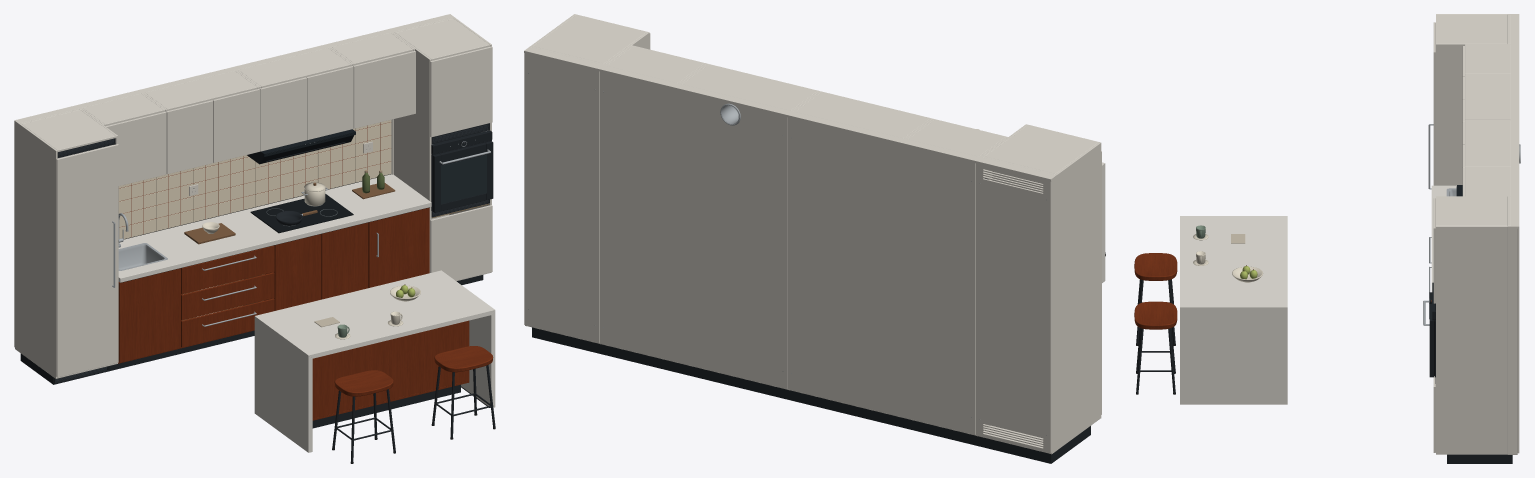
File: kitchen.glb
The picture shows the model from 3 angles, left to right: view 1: azimuth 30°, elevation 25°; view 2: azimuth 150°, elevation 25°; view 3: azimuth 270°, elevation 25°; orthographic projection. The views are drawn at different scales.
Visible parts, largest first — view 1: Fridge_Door, Backsplash_Cream_Square_Tiles, Island_Countertop, Counter_Main, Fridge_Side_L, Island_Carcass_Back, Island_End_L, Sink_Door, OvenCabinet_Upper, CabinetDoor_Panel, UpperDoor_Landing_Panel, OvenCabinet_Lower (+36 smaller); view 2: Rear_Flush_Service_Center_L, Rear_Flush_Service_Center_R, Rear_Flush_Service_Fridge, Rear_Flush_Service_Oven, Fridge_Side_L, Base_Continuous_Rear, Rear_Continuous_Top_Return, OvenCabinet_Top, Fridge_Top, Upper_Hood_Top, Upper_Prep_Top, Upper_Landing_Top (+3 smaller); view 3: OvenCabinet_Side_R, Island_End_R, Island_Countertop, Fridge_Side_R, Rear_Cladding_Stile_2.091, Rear_Continuous_Top_Return, Fridge_Top, OvenCabinet_Top, Upper_Prep_Top, Upper_Hood_Top, Upper_Landing_Top, Upper_Sink_Top (+8 smaller).
Part boxes in pixels (x1,y1,x2,y2): Fridge_Door: [56, 144, 118, 377]; Backsplash_Cream_Square_Tiles: [118, 120, 391, 238]; Island_Countertop: [255, 270, 494, 358]; Counter_Main: [118, 174, 431, 282]; Fridge_Side_L: [20, 124, 57, 378]; Island_Carcass_Back: [312, 321, 467, 418]; Island_End_L: [254, 316, 312, 452]; Sink_Door: [118, 268, 180, 362]; OvenCabinet_Upper: [430, 46, 492, 137]; CabinetDoor_Panel: [368, 207, 429, 287]; UpperDoor_Landing_Panel: [353, 51, 415, 128]; OvenCabinet_Lower: [430, 205, 492, 280]; Rear_Flush_Service_Center_L: [787, 117, 975, 434]; Rear_Flush_Service_Center_R: [599, 71, 787, 388]; Rear_Flush_Service_Fridge: [976, 163, 1051, 453]; Rear_Flush_Service_Oven: [524, 53, 599, 342]; Fridge_Side_L: [1056, 142, 1101, 449]; Base_Continuous_Rear: [532, 327, 1052, 463]; Rear_Continuous_Top_Return: [524, 47, 1054, 181]; OvenCabinet_Top: [534, 14, 646, 63]; Fridge_Top: [985, 125, 1098, 173]; Upper_Hood_Top: [682, 64, 817, 110]; Upper_Prep_Top: [795, 91, 930, 138]; Upper_Landing_Top: [607, 46, 704, 82]; OvenCabinet_Side_R: [1436, 226, 1507, 454]; Island_End_R: [1180, 307, 1287, 404]; Island_Countertop: [1180, 216, 1287, 307]; Fridge_Side_R: [1436, 43, 1507, 185]; Rear_Cladding_Stile_2.091: [1507, 226, 1517, 454]; Rear_Continuous_Top_Return: [1510, 14, 1519, 228]; Fridge_Top: [1436, 15, 1507, 43]; OvenCabinet_Top: [1436, 197, 1507, 225]; Upper_Prep_Top: [1465, 75, 1510, 119]; Upper_Hood_Top: [1465, 121, 1510, 164]; Upper_Landing_Top: [1465, 167, 1510, 195]; Upper_Sink_Top: [1465, 45, 1510, 73].
Size of the model in its own units: 4.2 by 2.2 by 3.22.
24 materials, 2 textured.
